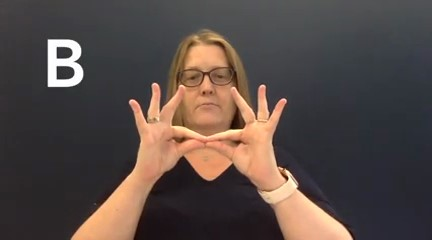B: (119, 78, 288, 186)
